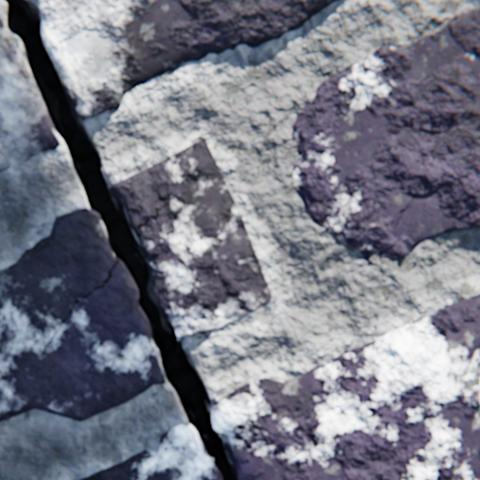brick: (291, 10, 479, 265)
broken_brick: (211, 294, 479, 479), (25, 0, 339, 121), (0, 208, 165, 421), (109, 139, 270, 339), (0, 0, 59, 172), (78, 425, 219, 479)
crack: (2, 0, 237, 479), (58, 296, 85, 331), (138, 205, 165, 235), (41, 332, 56, 357), (405, 196, 415, 207), (397, 209, 404, 219)
